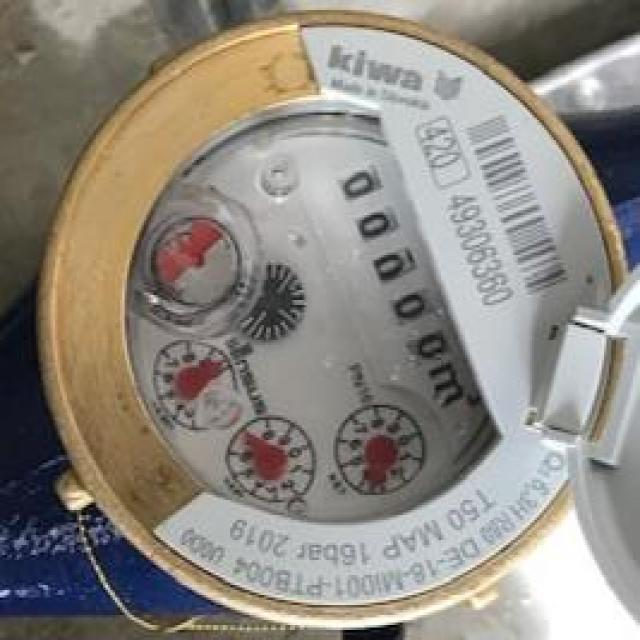gaz_meter: (40, 15, 625, 607)
indication: (312, 141, 472, 384)
